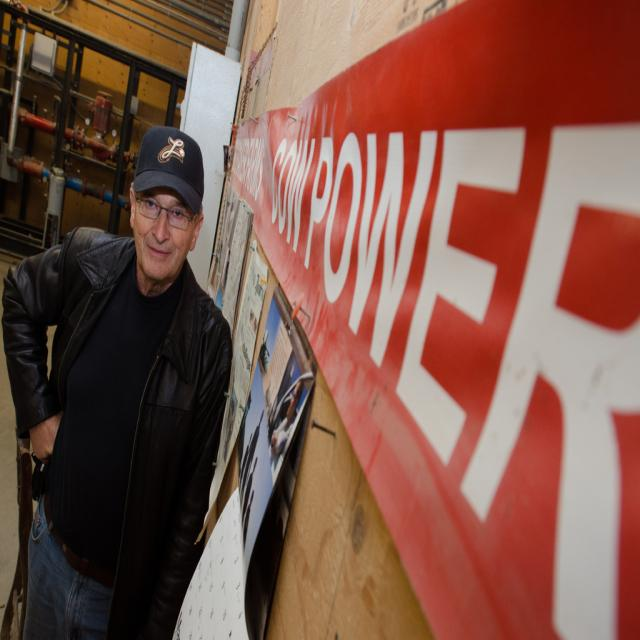Hat: (130, 127, 202, 215)
